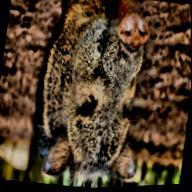boar: (26, 0, 162, 191)
